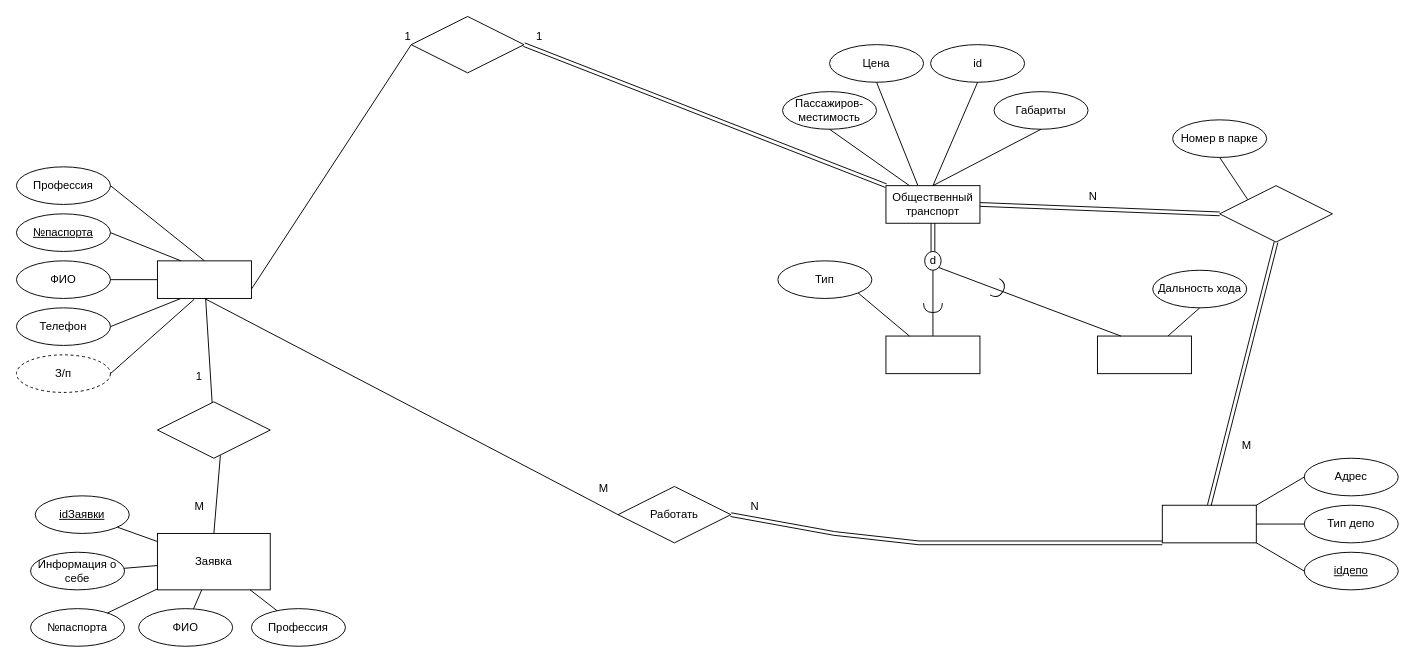
Image size: 1415x663. Some labels were removed from this diagram. Each missing label, with the centre of its shape:
"Водить" goes at (467,44).
"Депо" goes at (1208,523).
"Претендовать_на" goes at (213,429).
"Рабочий" goes at (204,279).
"Рогатый транспорт" goes at (932,354).
"Храниться и обслуживаться" goes at (1275,213).
"Электробус" goes at (1144,354).
